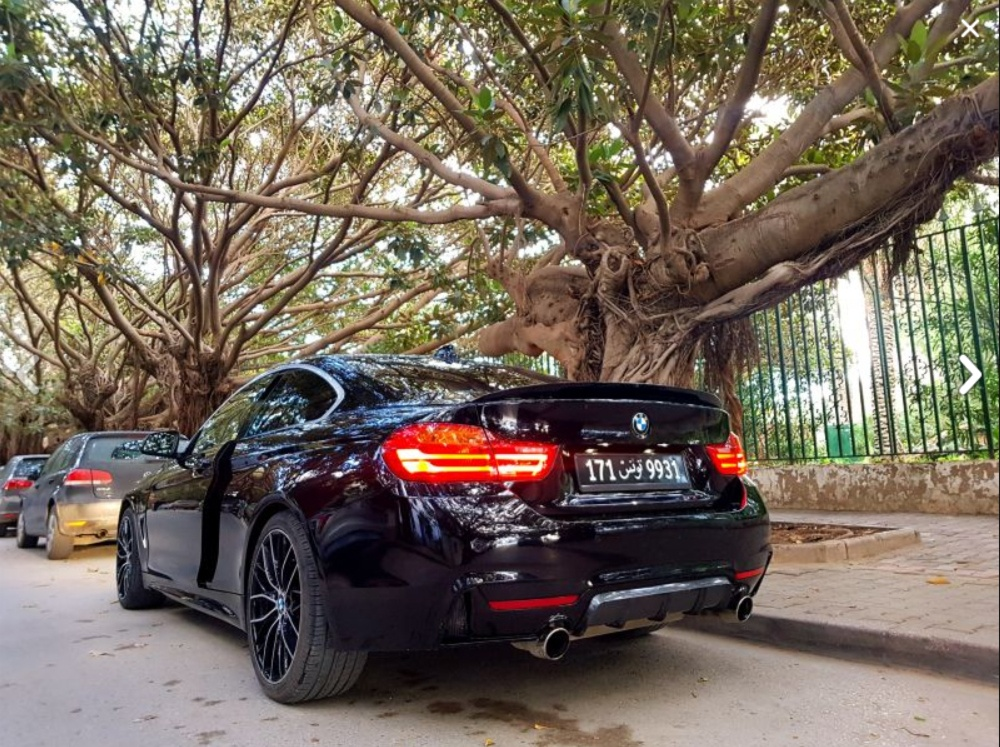LP: (569, 452, 696, 492)
